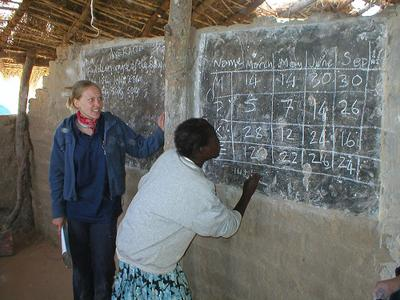person: (111, 118, 262, 300)
